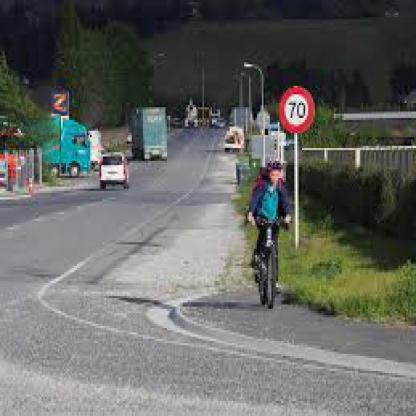Speed Limit 70: (280, 86, 316, 132)
